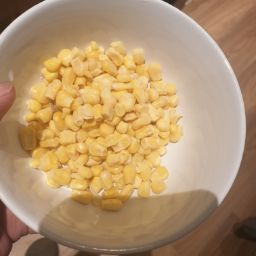Corn Kernel: (38, 38, 180, 201), (52, 43, 187, 154), (22, 76, 118, 210), (59, 60, 168, 140), (99, 108, 157, 199)
